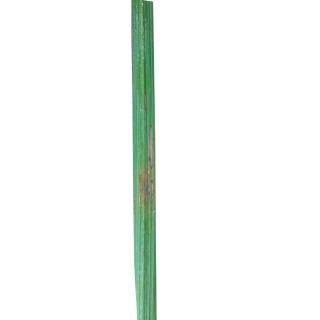Blast: (138, 121, 154, 225), (144, 90, 147, 113)
